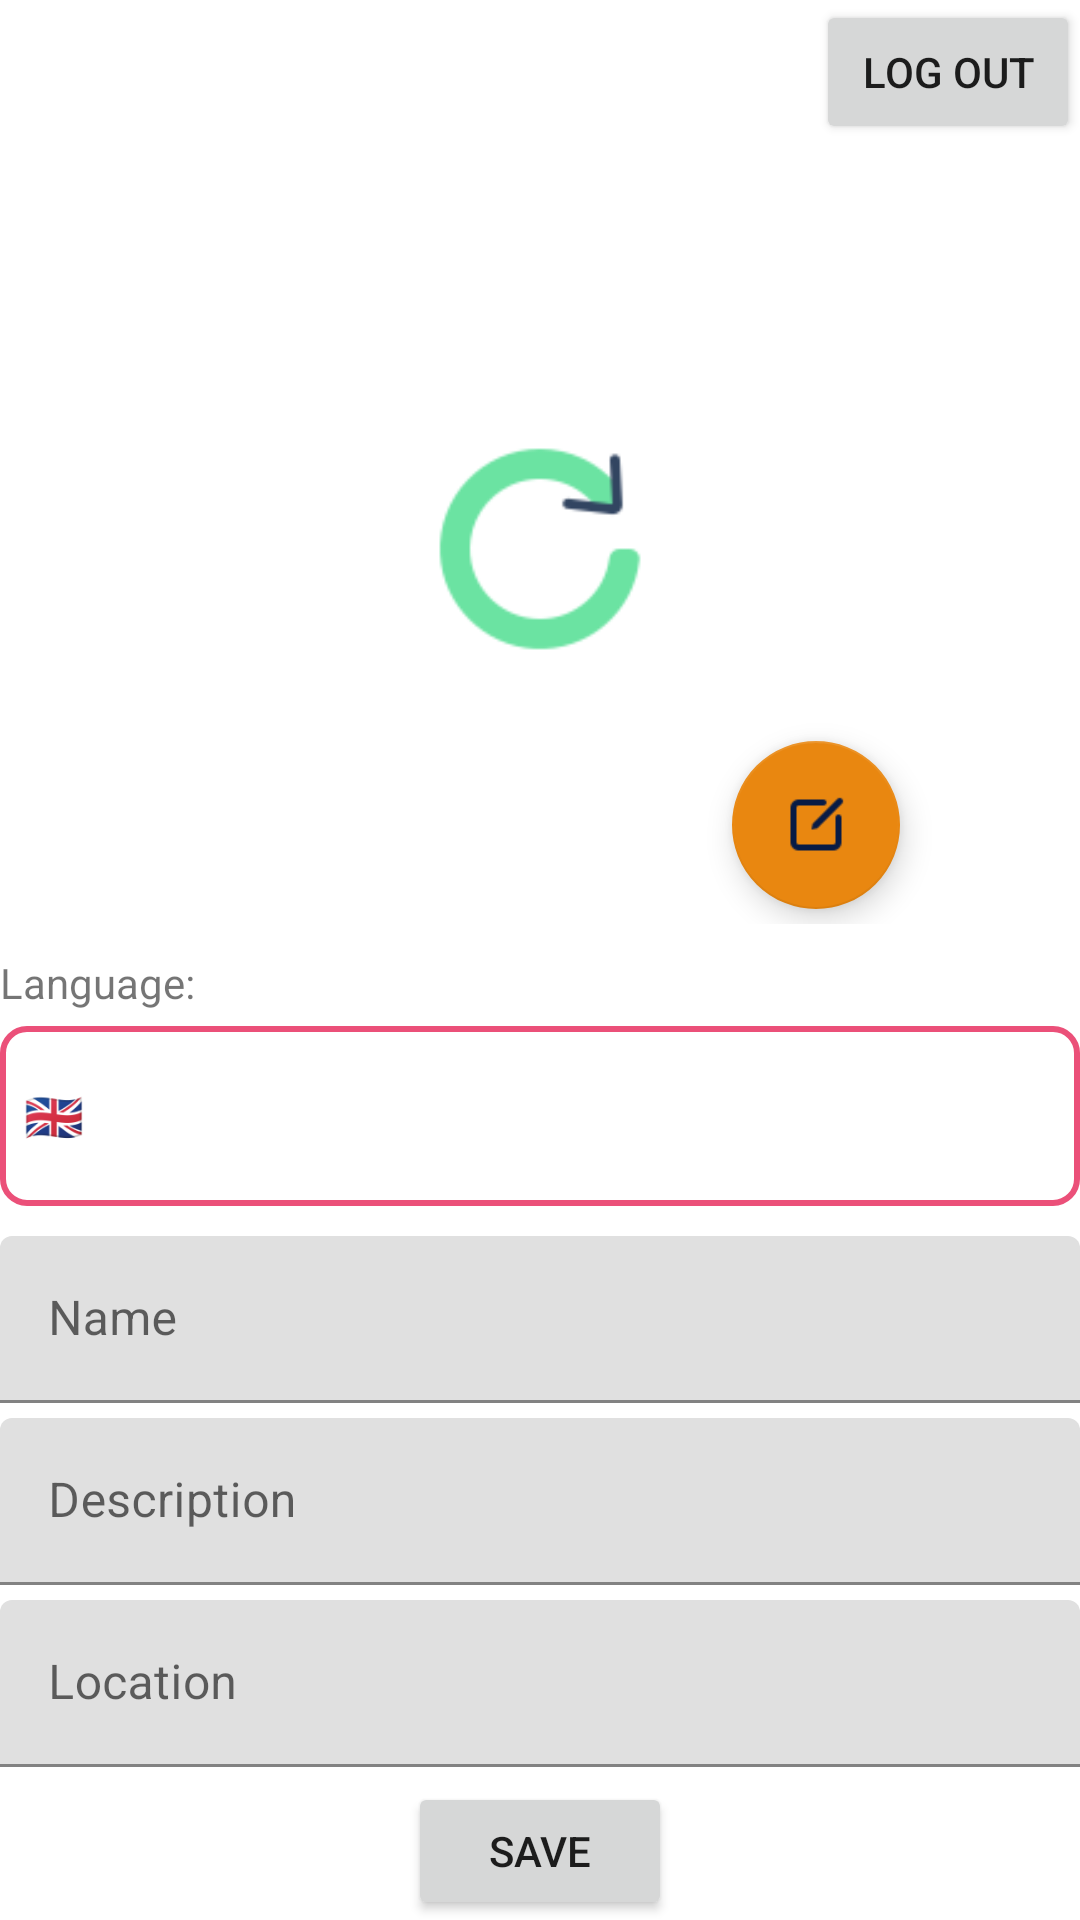

Screen size 1080x1920. Icon name, then its center in pixels as (x,y):
Floating Action Edit Image: (816,825)
